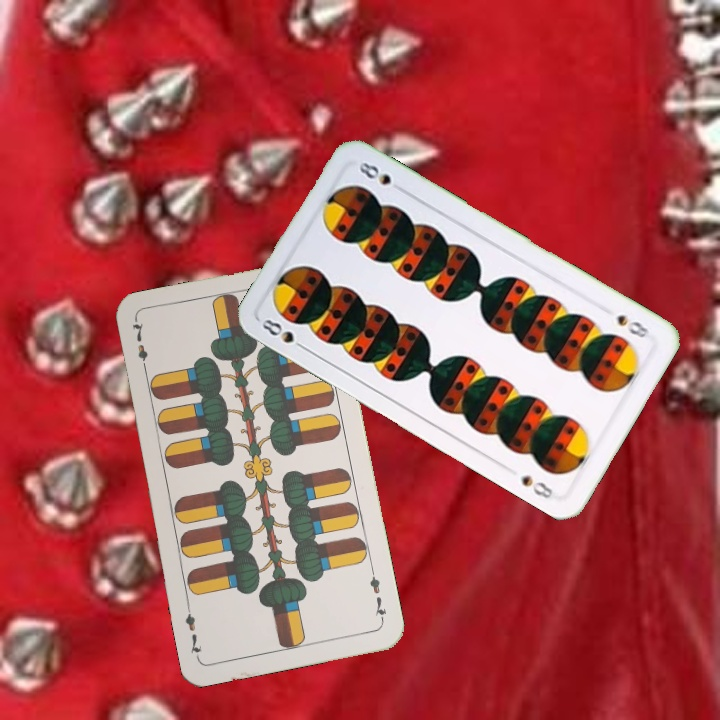E7: (365, 566, 389, 624), (128, 317, 151, 376)
S8: (258, 314, 311, 354), (613, 310, 652, 341)
